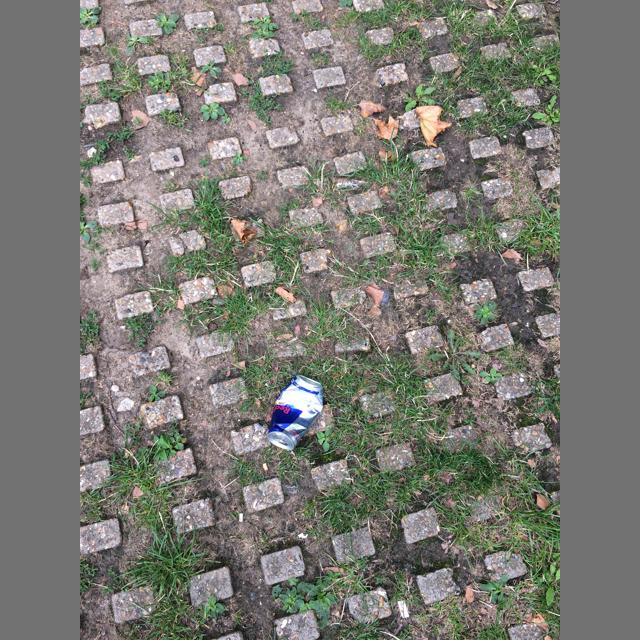litter: (267, 375, 324, 450), (239, 513, 243, 522)
